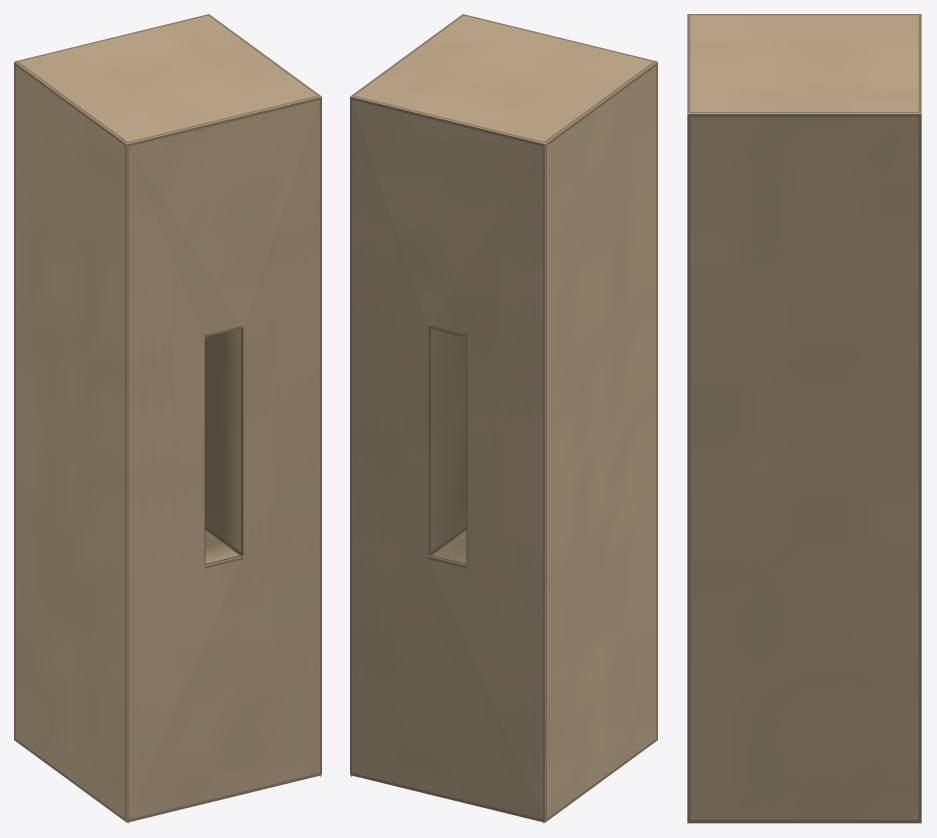
3 renders of one model, left to right at view 1: azimuth 30°, elevation 25°; view 2: azimuth 150°, elevation 25°; view 3: azimuth 270°, elevation 25°, orthographic. The views are drawn at different scales.
Visible parts, largest first — view 1: part-a; view 2: part-a; view 3: part-a.
Part boxes in pixels (x1=…): part-a: x1=14, y1=14, x2=321, y2=823; part-a: x1=350, y1=14, x2=657, y2=823; part-a: x1=687, y1=14, x2=921, y2=823.
Bounding box in the file's own units: 0.1208 × 0.4016 × 0.1207.
